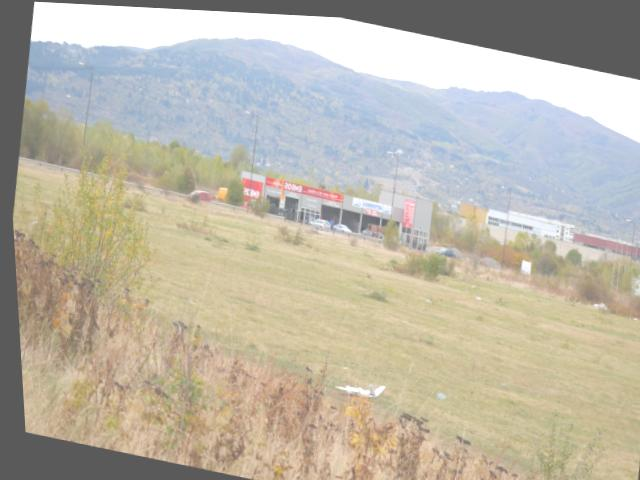plane: (328, 370, 382, 400)
